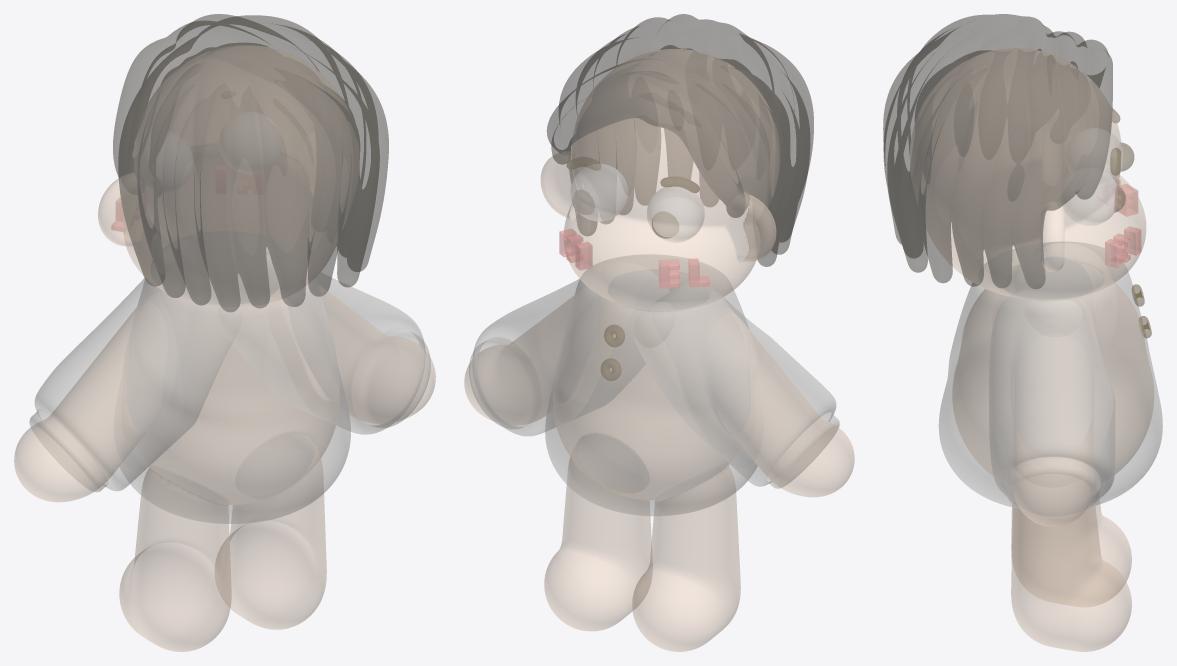
Rendered from keko.glb.
The picture shows the model from 3 angles, left to right: view 1: azimuth 30°, elevation 25°; view 2: azimuth 150°, elevation 25°; view 3: azimuth 270°, elevation 25°; orthographic projection. The views are drawn at different scales.
Visible parts, largest first — view 1: body, hair, Area (1), sleeve R, sleeve L; view 2: body, hair, Area (1), sleeve R, sleeve L, eyes, Area (2); view 3: body, hair, Area (1), sleeve L, eyes, Area (2), sleeve R.
Part boxes in pixels (x1,y1,x2,y2): body: [14, 46, 435, 651]; hair: [113, 14, 388, 311]; Area (1): [120, 247, 350, 523]; sleeve R: [29, 278, 233, 491]; sleeve L: [233, 258, 430, 434]; body: [464, 49, 854, 651]; hair: [547, 14, 813, 266]; Area (1): [545, 254, 757, 515]; sleeve R: [633, 283, 839, 488]; sleeve L: [469, 262, 669, 435]; eyes: [566, 157, 704, 242]; Area (2): [559, 229, 709, 288]; body: [910, 48, 1153, 651]; hair: [883, 14, 1112, 288]; Area (1): [939, 242, 1162, 508]; sleeve L: [989, 288, 1115, 516]; eyes: [1062, 108, 1133, 225]; Area (2): [1105, 178, 1140, 267]; sleeve R: [1043, 241, 1083, 259].
Bounding box in the file's own units: 606 × 891 × 381.
Materials: 9 (9 with a texture image).
